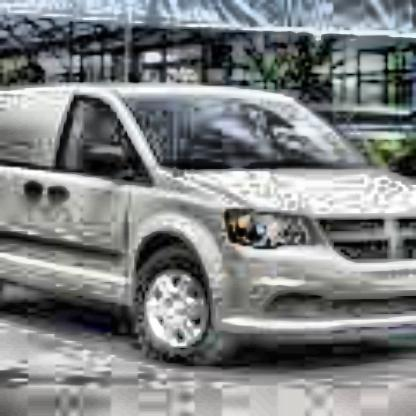Ram C-V Cargo Van Minivan 2012: (4, 85, 416, 358)
